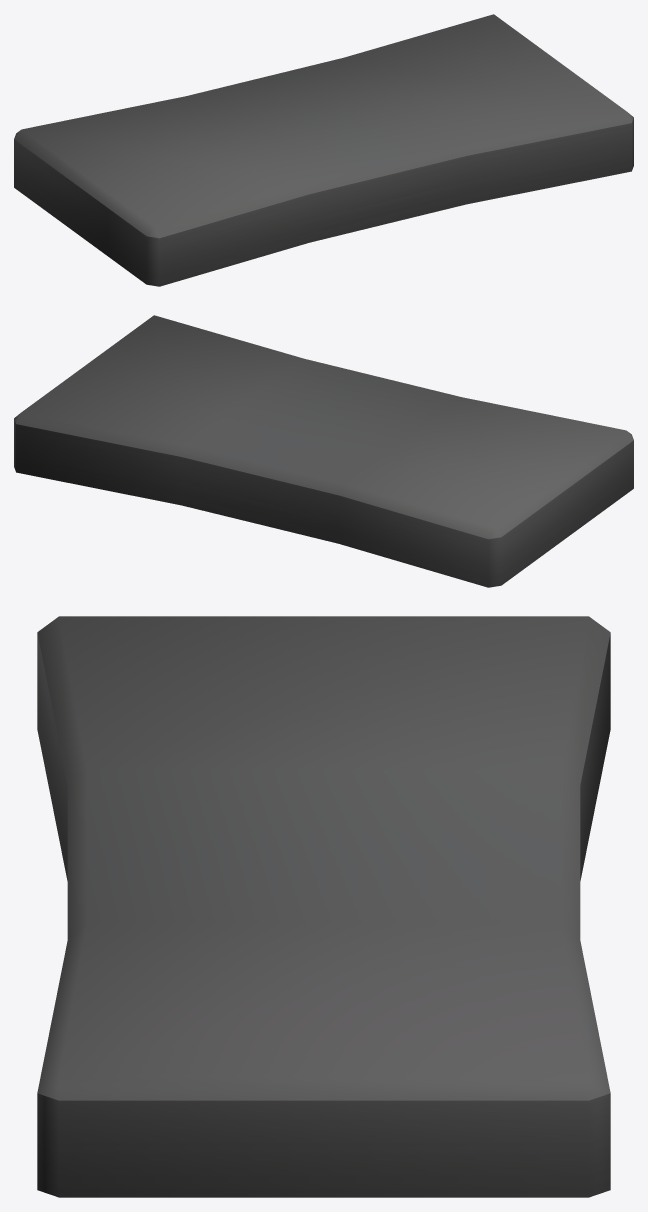
The model's file is Grave_5.obj.
The picture shows the model from 3 angles, top to bottom: view 1: azimuth 30°, elevation 25°; view 2: azimuth 150°, elevation 25°; view 3: azimuth 270°, elevation 25°; orthographic projection. The views are drawn at different scales.
Parts seen in each view (by area): view 1: Grave_5; view 2: Grave_5; view 3: Grave_5.
Boxes of the visible parts, x1,y1,x2,y2 form: Grave_5: [14, 14, 633, 286]; Grave_5: [14, 315, 633, 587]; Grave_5: [37, 616, 610, 1197].
Size of the model in its own units: 1.69 by 0.1866 by 0.8601.
